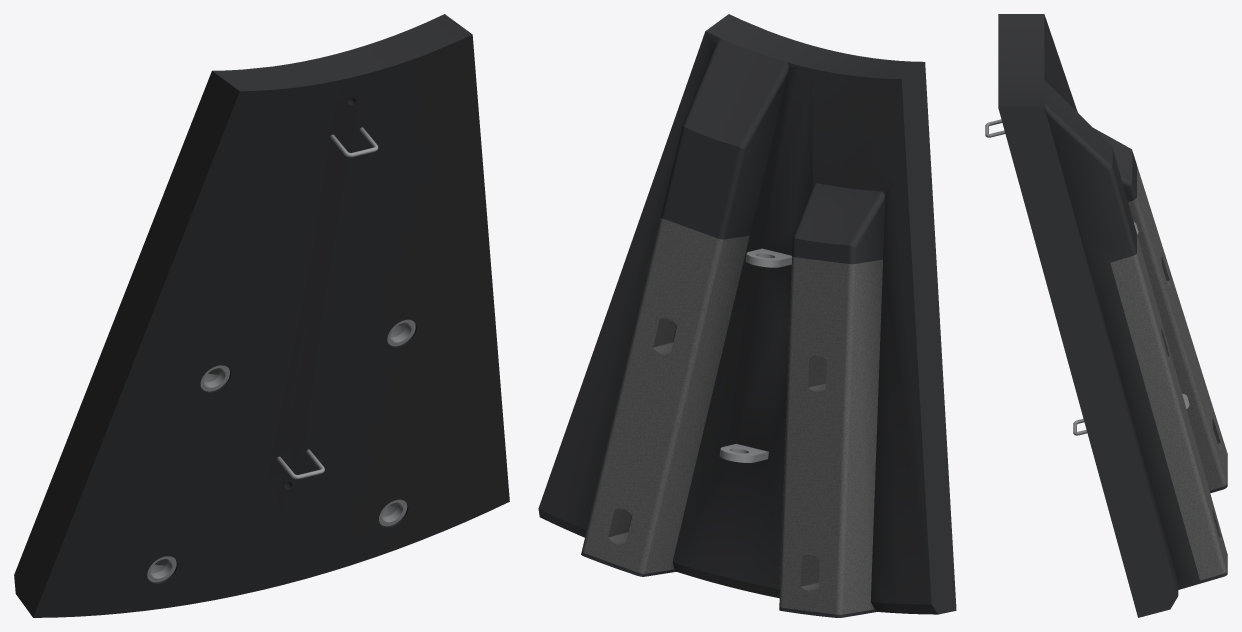
File: sag-feed-end-liner-composite.glb
3 views of the same model, side by side, from view 1: azimuth 30°, elevation 25°; view 2: azimuth 150°, elevation 25°; view 3: azimuth 270°, elevation 25° (orthographic). The views are drawn at different scales.
Visible parts, largest first — view 1: composite, bolt; view 2: composite, compositeInsert, bolt; view 3: composite, compositeInsert, bolt.
Boxes of the visible parts, x1,y1,x2,y2 form: composite: (14,14,509,617); bolt: (147,127,415,582); composite: (538,14,956,617); compositeInsert: (582,217,882,614); bolt: (719,248,791,462); composite: (998,14,1227,617); compositeInsert: (1110,166,1226,580); bolt: (985,119,1189,435).
Size of the model in its own units: 1.22 by 1.44 by 0.6531.
Materials: 3 (1 with a texture image).
